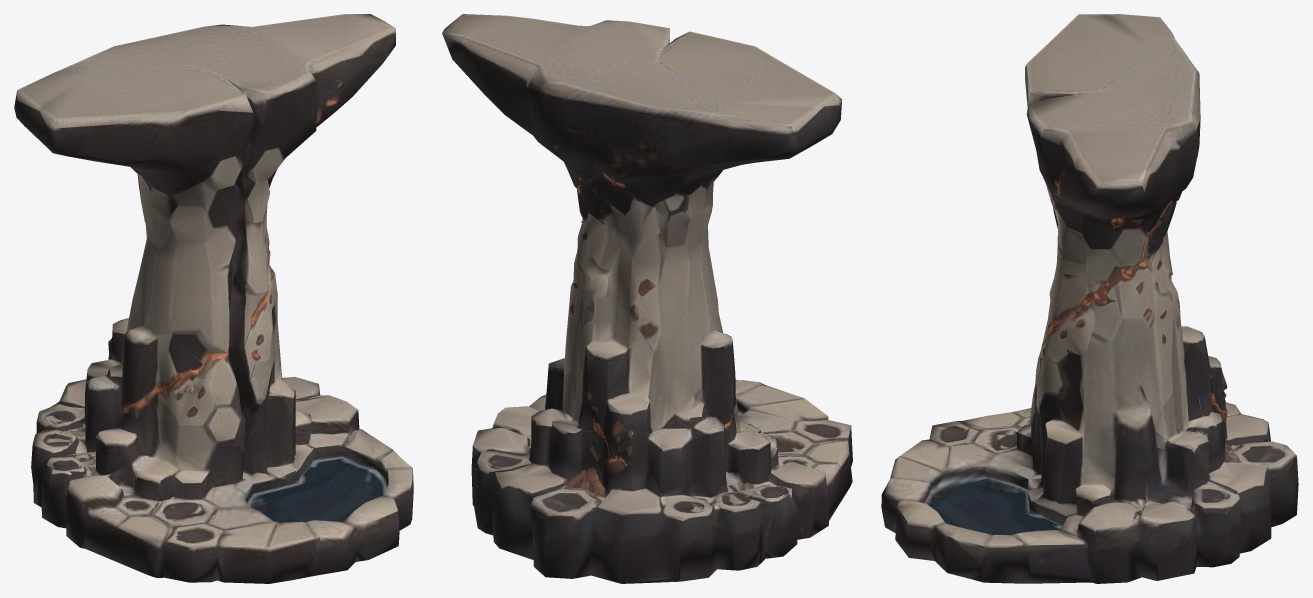
File: repere-enclume.glb
3 views of the same model, side by side, from view 1: azimuth 30°, elevation 25°; view 2: azimuth 150°, elevation 25°; view 3: azimuth 270°, elevation 25° (orthographic). The views are drawn at different scales.
Visible parts, largest first — view 1: repere-enclume; view 2: repere-enclume; view 3: repere-enclume.
Part boxes in pixels (x1,y1,x2,y2): repere-enclume: (14,14,413,583); repere-enclume: (442,14,852,583); repere-enclume: (881,14,1298,583).
Bounding box in the file's own units: 1.66 × 1.89 × 1.69.
1 material, 1 textured.
